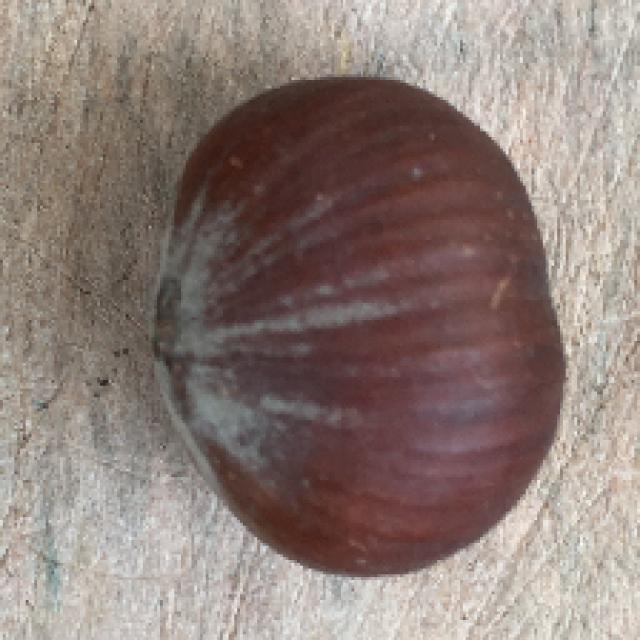qualityHazelnut: (145, 73, 572, 589)
